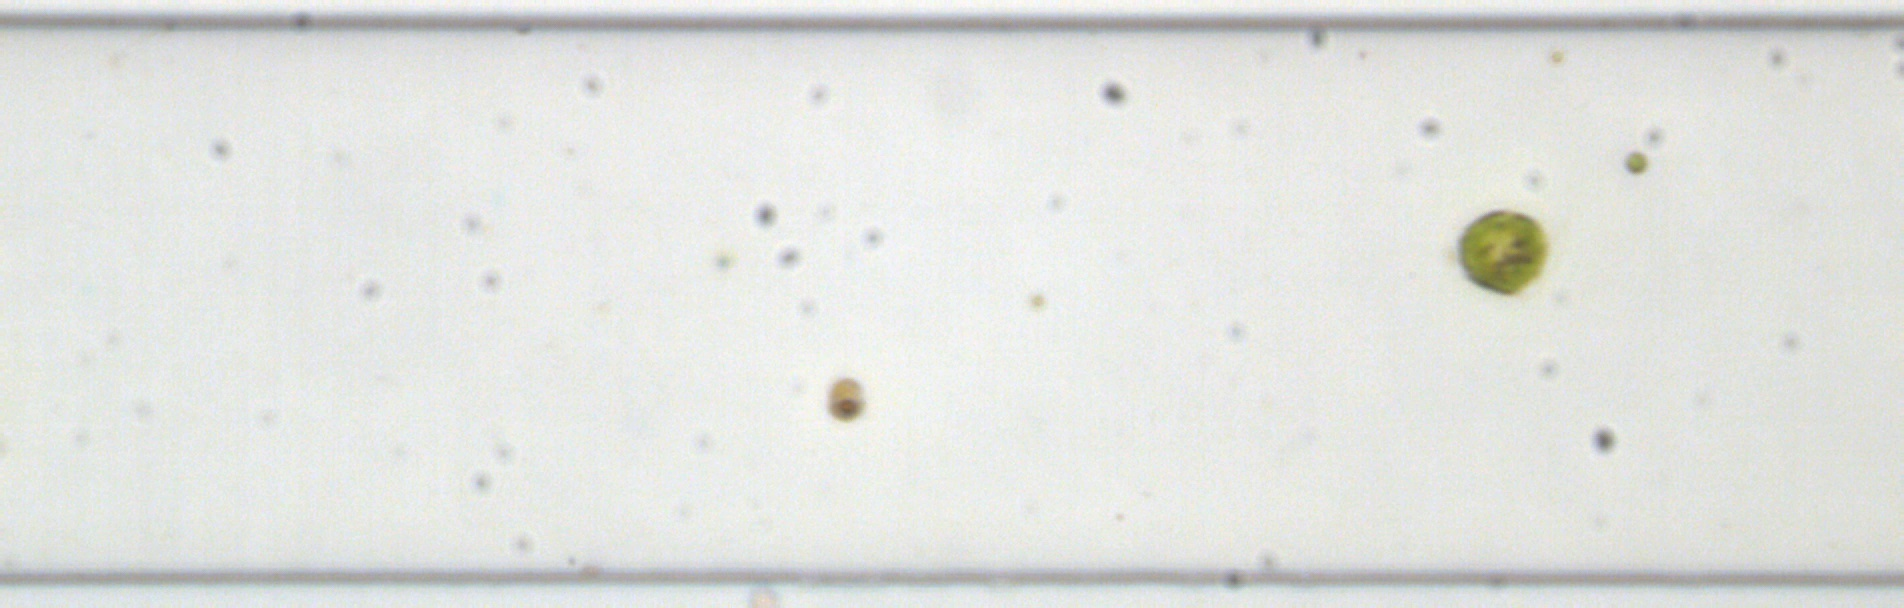Chlorella: (1620, 148, 1648, 176), (713, 252, 731, 269), (1548, 47, 1564, 64), (1030, 292, 1047, 308)
Effrenium: (823, 374, 866, 421)
Haematococcus: (1450, 205, 1552, 299)
